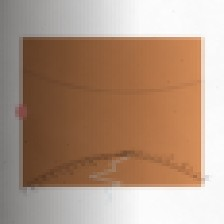foreign_body_visible: (42, 109, 64, 127)
